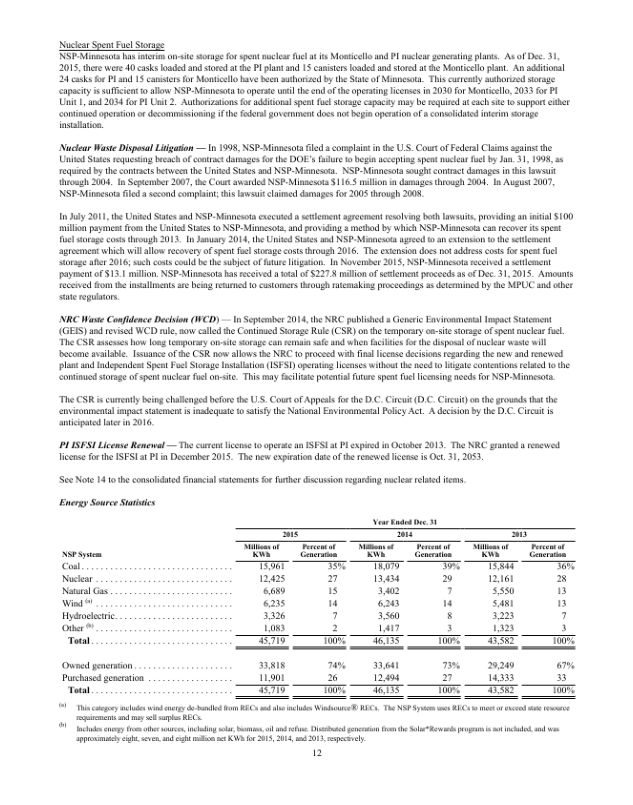table: (230, 516, 577, 702)
